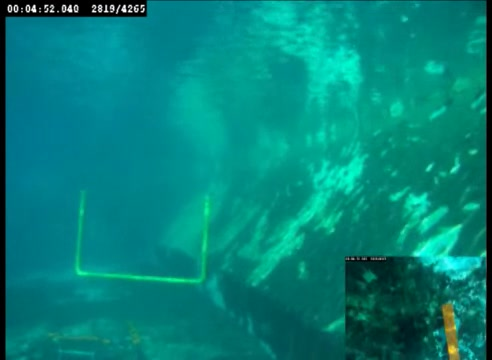channel: (70, 182, 216, 287)
